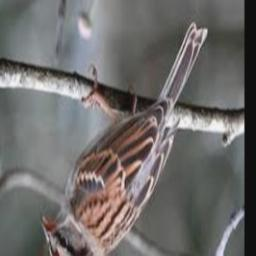Sparrow: (39, 21, 208, 256)
